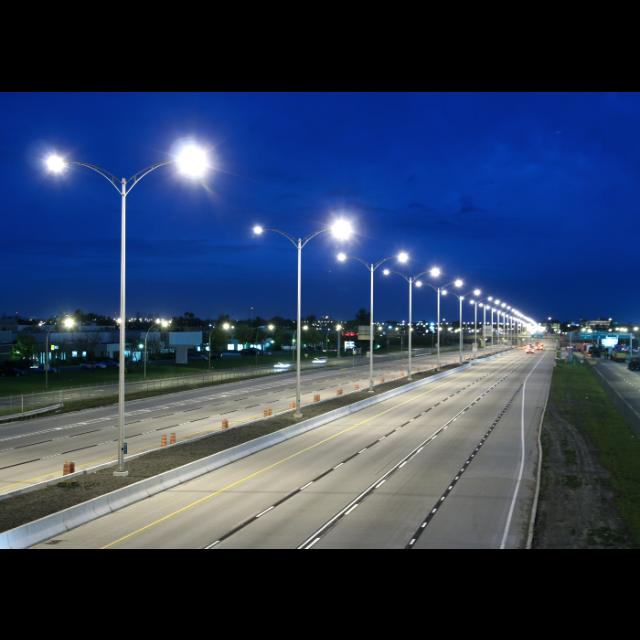Street-Lamp: (28, 116, 216, 478)
